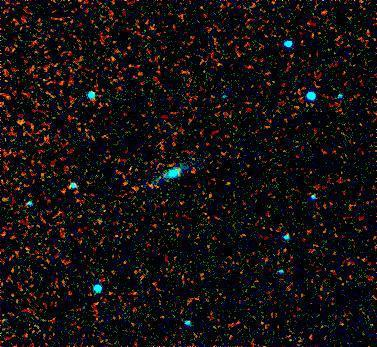star: (213, 169, 243, 199)
